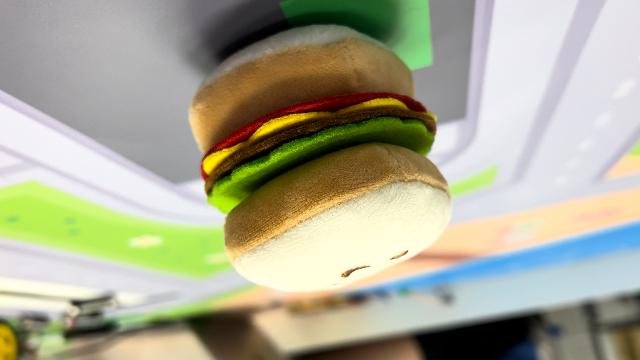sandwich: (185, 23, 455, 293)
